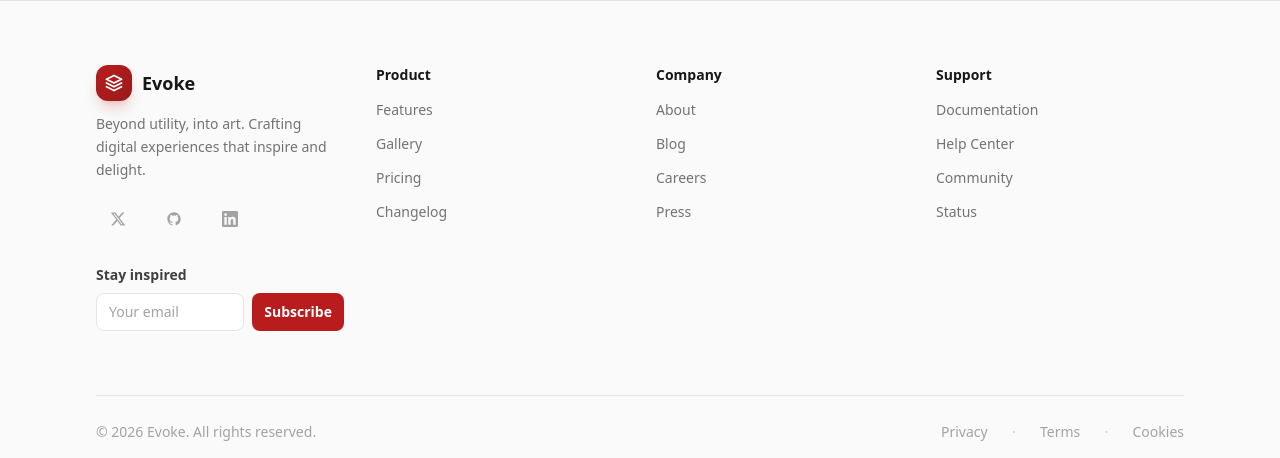
Scenario: Footer › shows success message on valid email submit
Type "test@example.com" into the field named "Email address for newsletter".
click(170, 312); type("test@example.com")  # box x1=96 y1=293 x2=244 y2=331
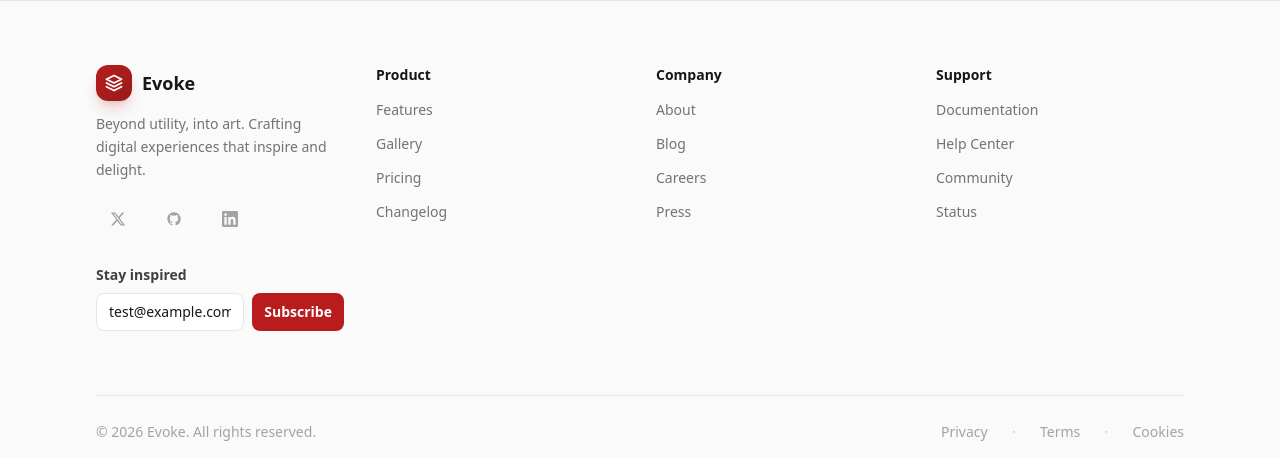
Click the button with aria-label "Subscribe to newsletter".
click(298, 312)  # box x1=252 y1=293 x2=344 y2=331
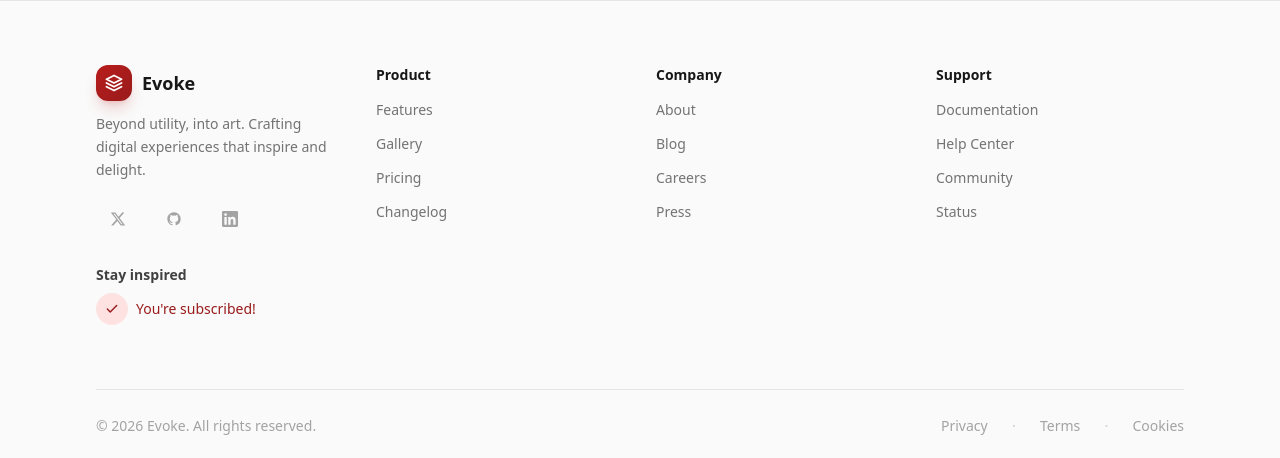
Result: the text "You're subscribed!" is shown at x1=136 y1=299 x2=256 y2=319
